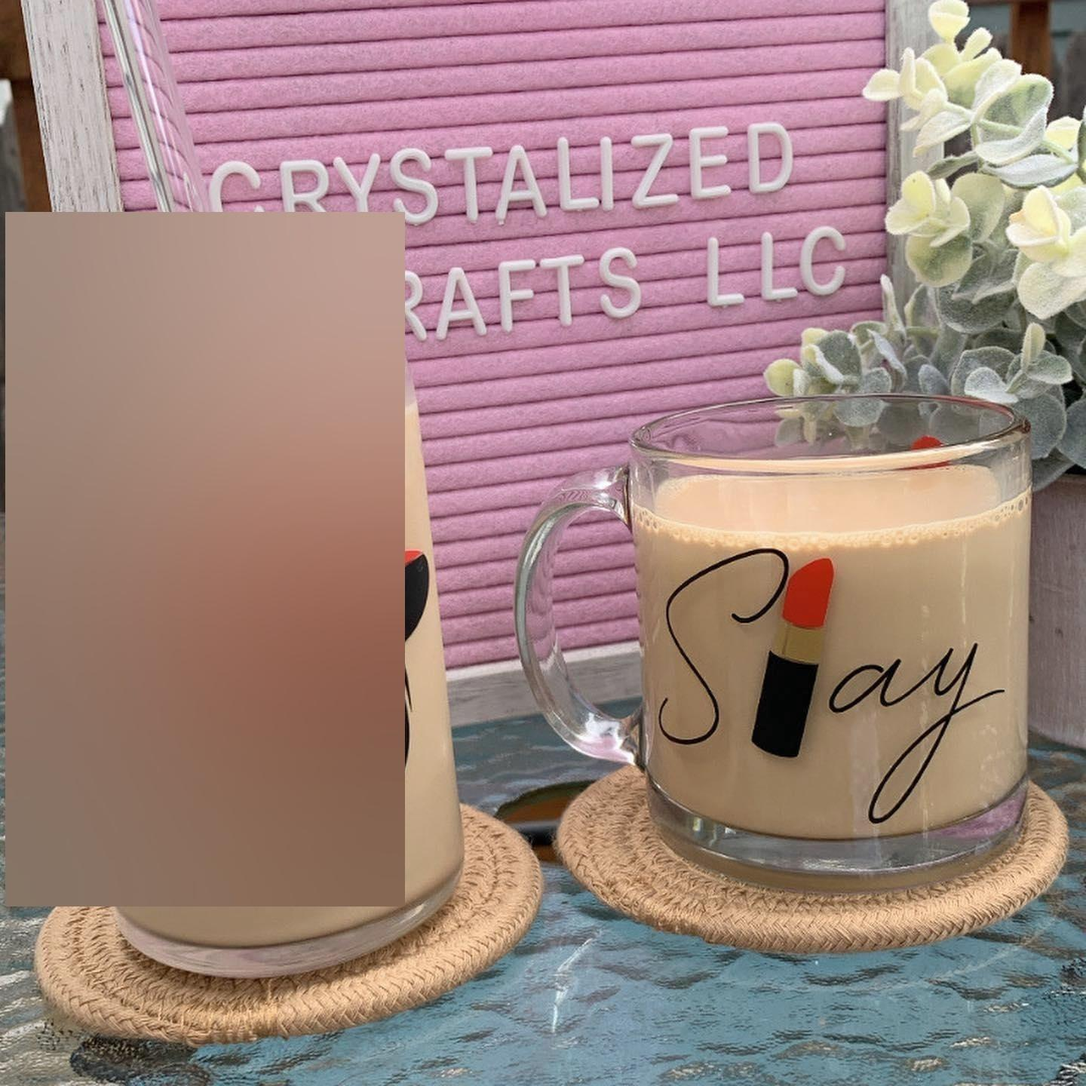glass-mug: (506, 385, 1060, 889)
